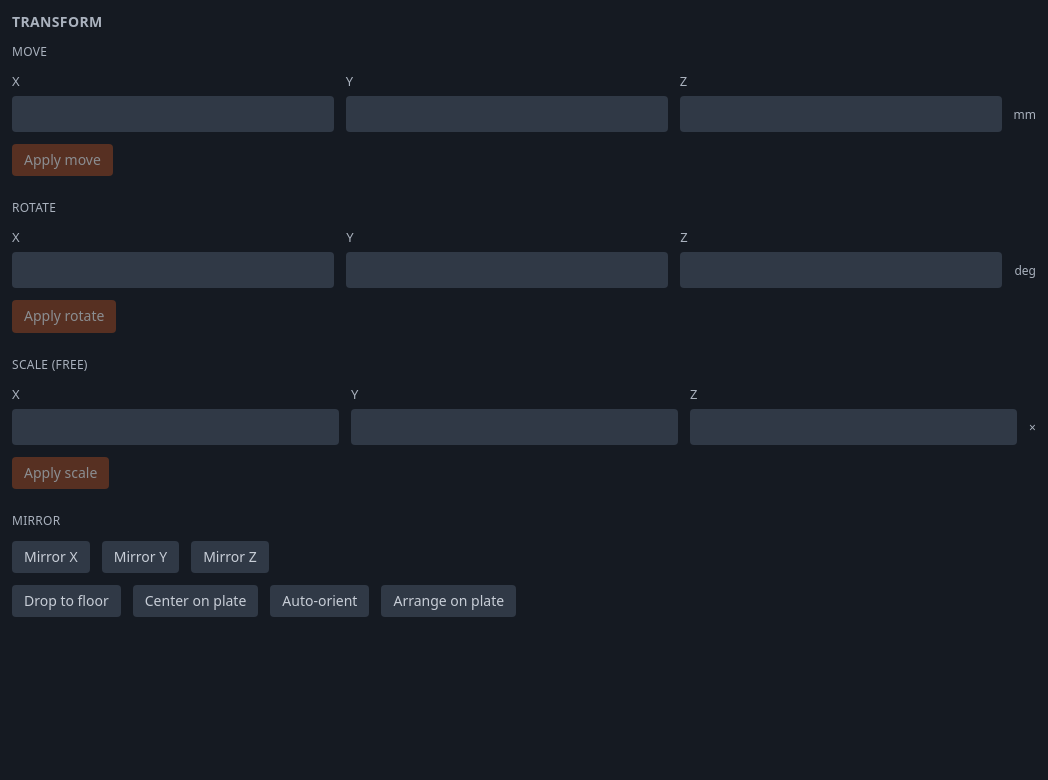
TransformSection - auto-orient › shows the already-oriented note on a no-op
The width and height of the screenshot is (1048, 780).
Click the button "Auto-orient" at (320, 601), box [270, 585, 369, 618]
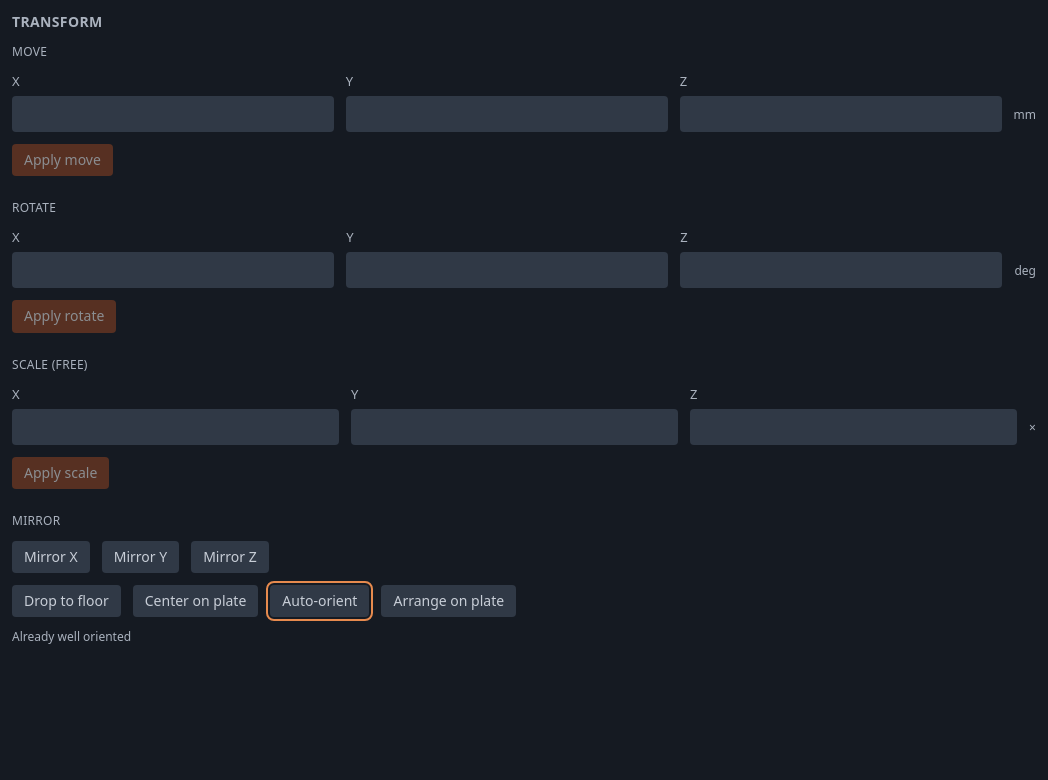
Now the text "Already well oriented" is shown, box [12, 628, 131, 646]
